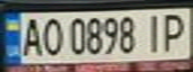0: (66, 15, 87, 55)
8: (118, 12, 142, 55), (84, 15, 106, 56)
9: (103, 13, 121, 55)
A: (18, 15, 45, 57)
I: (139, 11, 169, 54)
O: (39, 15, 66, 56)
P: (157, 10, 190, 53)
